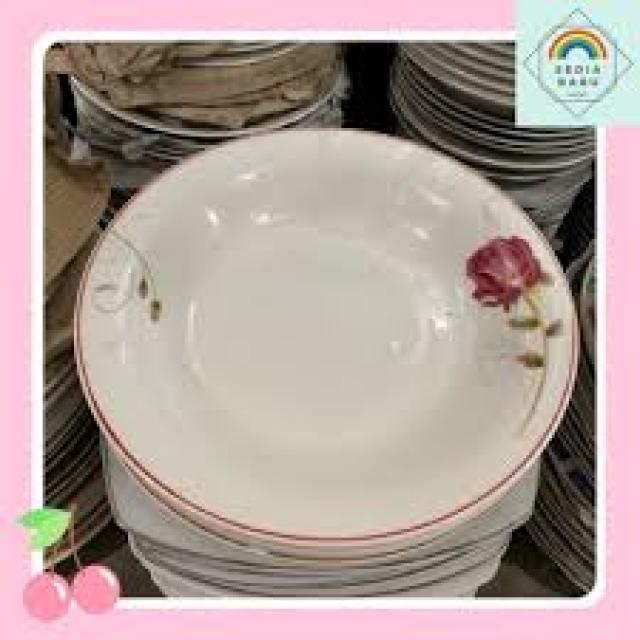Plate: (66, 125, 587, 567)
